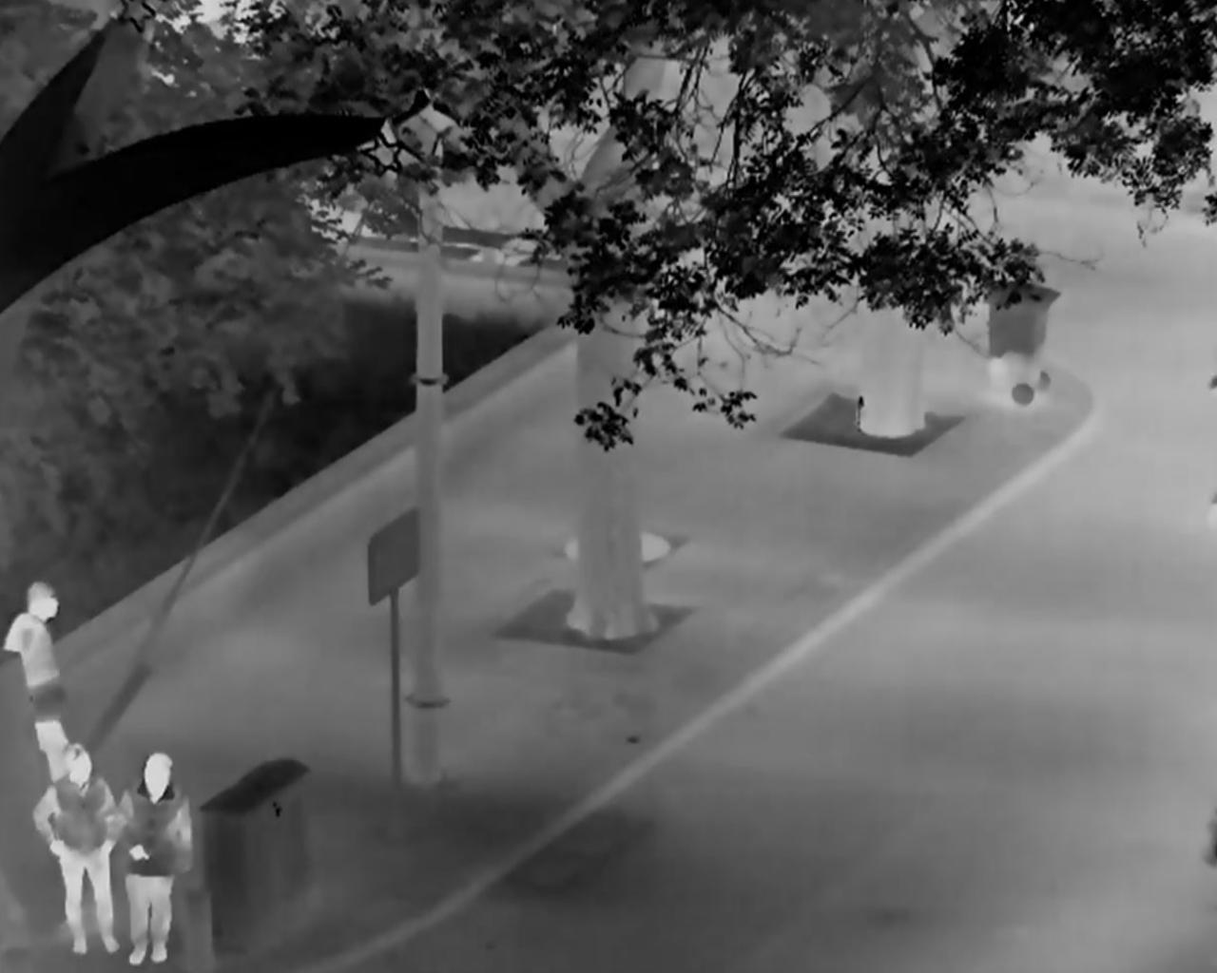person: (32, 743, 120, 957), (113, 753, 194, 966), (5, 579, 75, 780)
